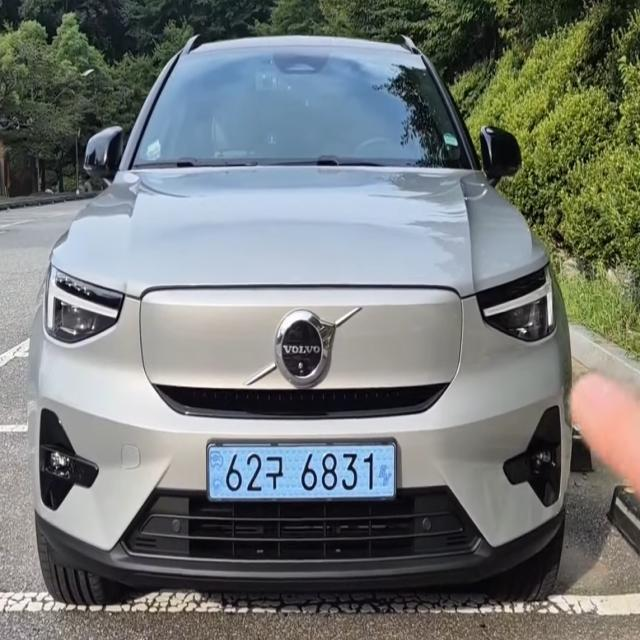car: (193, 429, 418, 522)
carev: (206, 440, 226, 504), (375, 442, 396, 501)
